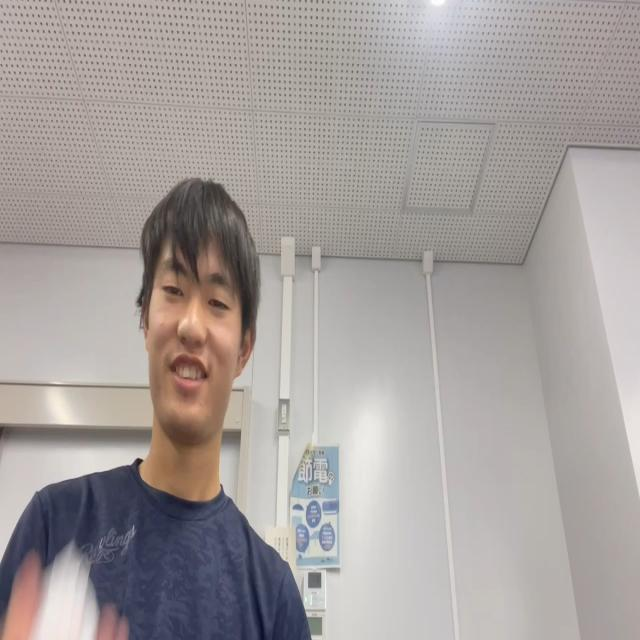paper: (29, 539, 99, 638)
